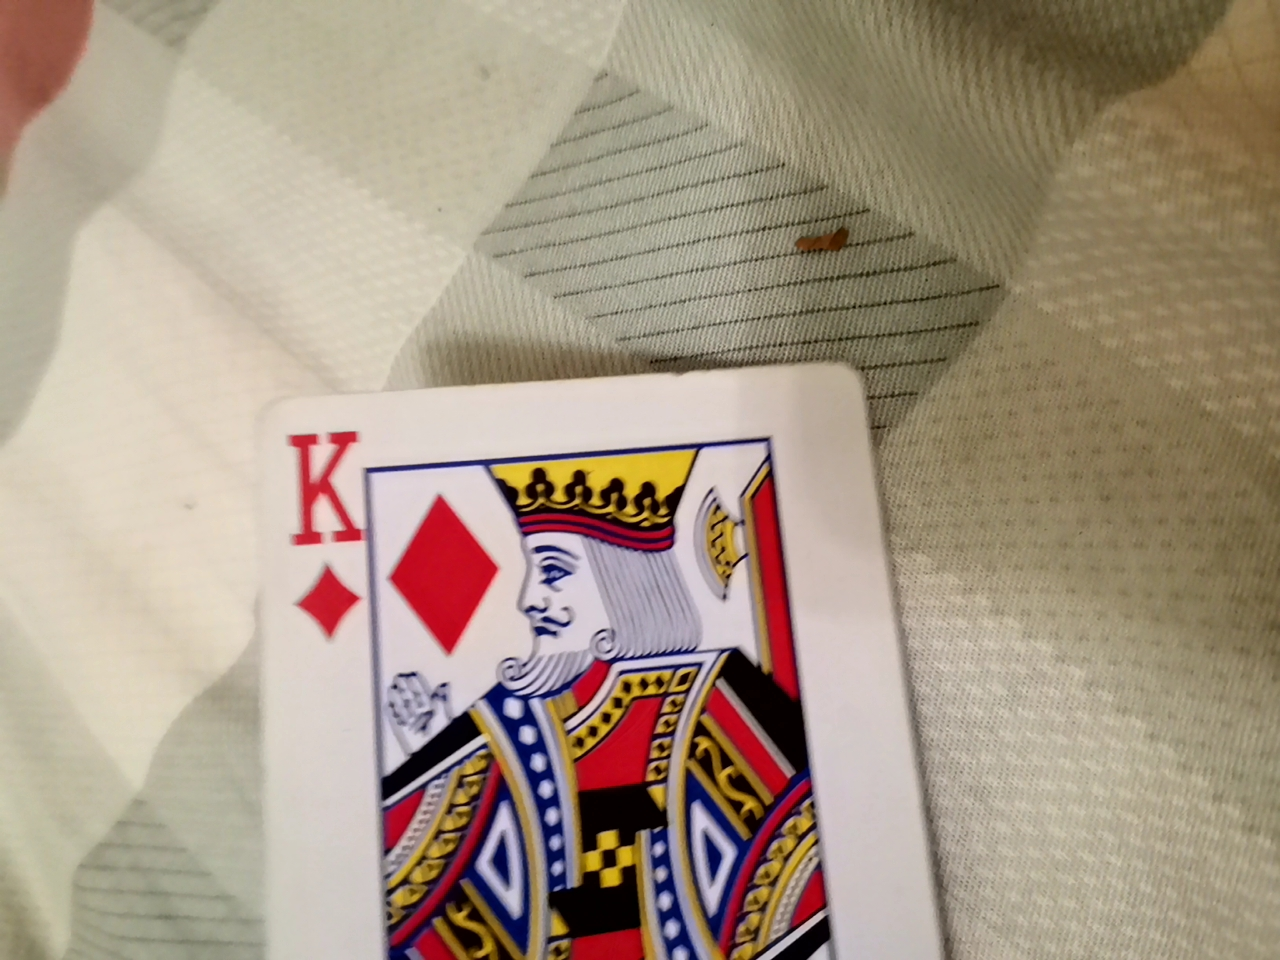fk k: (224, 356, 945, 960)
